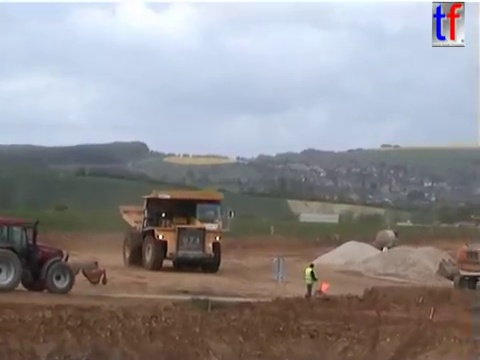excavator: (450, 244, 480, 297)
truck: (117, 188, 235, 275), (371, 226, 400, 252)
wheel loader: (1, 214, 109, 296)
worker: (302, 261, 319, 301)
